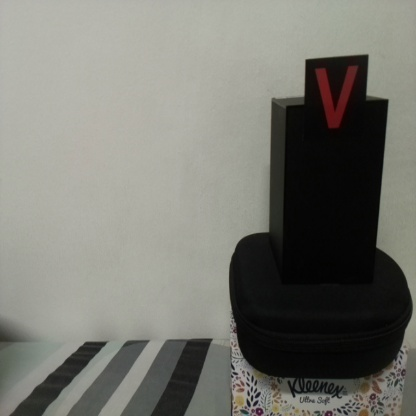id_11: (305, 57, 368, 138)
